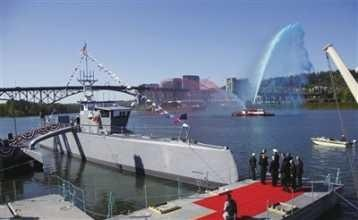otherboat: (308, 130, 358, 150), (230, 105, 269, 118)
